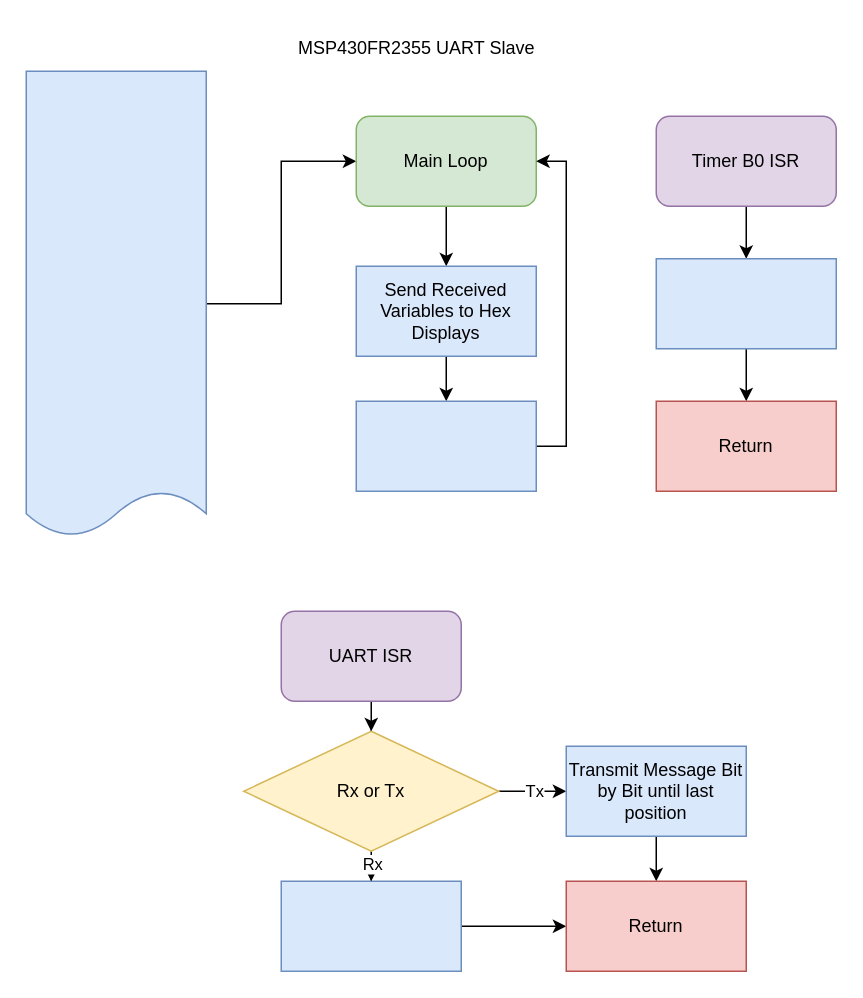
Image size: 863x998. Some labels were removed from this diagram. Each missing label, with the centre of its shape:
Get Keypad Inputs and Tx them: the point at 445,445
Inits: Hex Display Pins Keypad Pins Heartbeat LED UART Pins: the point at 115,303
Store Buff into recieved: the point at 370,925
Toggle Heartbeat LED: the point at 745,303
